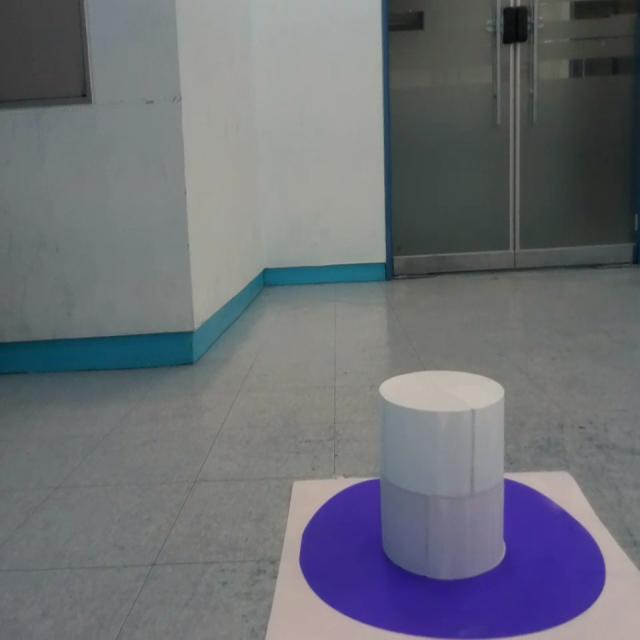cylinder: (378, 370, 508, 582)
